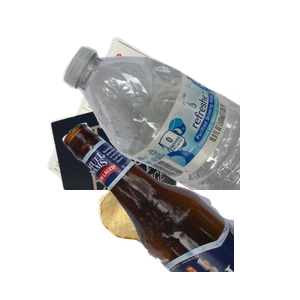glass: (60, 120, 300, 300)
paper: (45, 34, 230, 214)
plastic: (60, 44, 300, 224)
trash: (96, 181, 277, 300)
